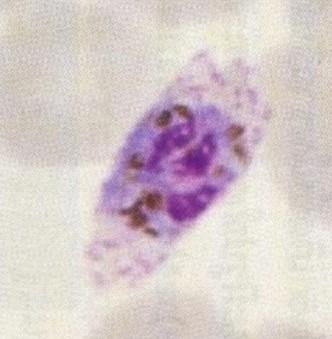Infected: (82, 47, 276, 292)
